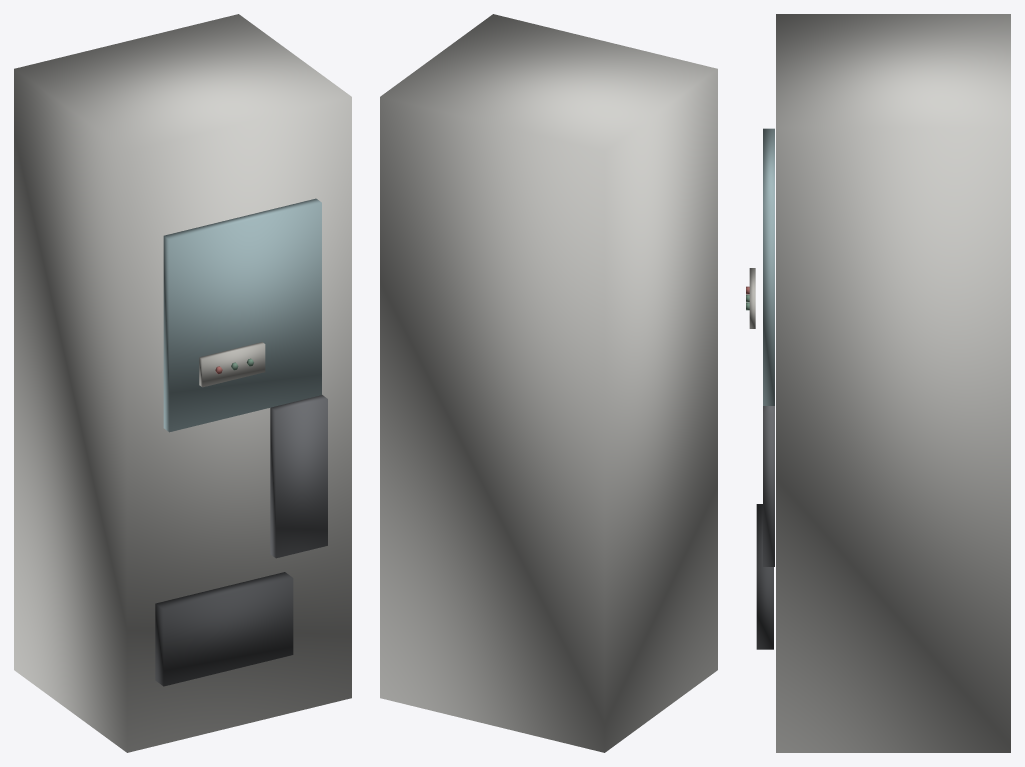
Rendered from snack_vending_machine__tall.glb.
3 renders of one model, left to right at view 1: azimuth 30°, elevation 25°; view 2: azimuth 150°, elevation 25°; view 3: azimuth 270°, elevation 25°, orthographic. The views are drawn at different scales.
Parts seen in each view (by area): view 1: world; view 2: world; view 3: world.
Part boxes in pixels (left/top/right/bottom): world: left=14, top=14, right=351, bottom=752; world: left=380, top=14, right=717, bottom=752; world: left=746, top=14, right=1010, bottom=752.
Size of the model in its own units: 0.78 by 2 by 0.766.
